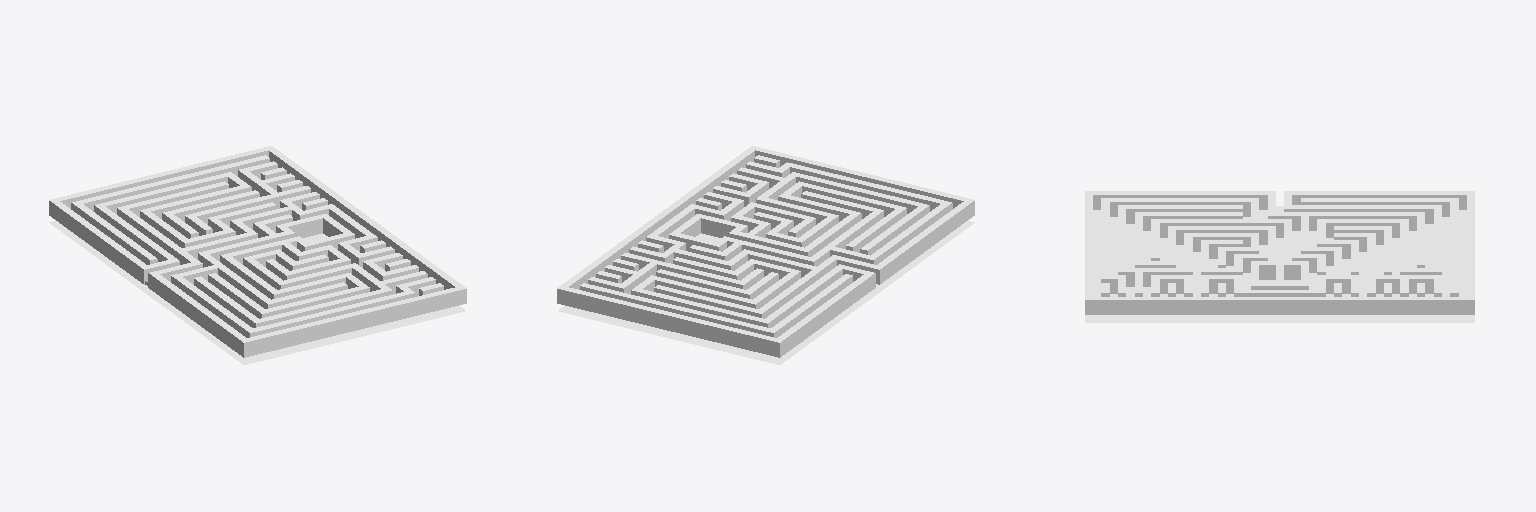
File: laberinto.obj
3 views of the same model, side by side, from view 1: azimuth 30°, elevation 25°; view 2: azimuth 150°, elevation 25°; view 3: azimuth 270°, elevation 25° (orthographic).
Parts seen in each view (by area): view 1: laberinto; view 2: laberinto; view 3: laberinto.
Boxes of the visible parts, box(x1,y1,x2,y2) form: laberinto: box(49, 146, 466, 364); laberinto: box(557, 146, 974, 364); laberinto: box(1085, 191, 1474, 322).
Size of the model in its own units: 10.52 by 1 by 15.67.